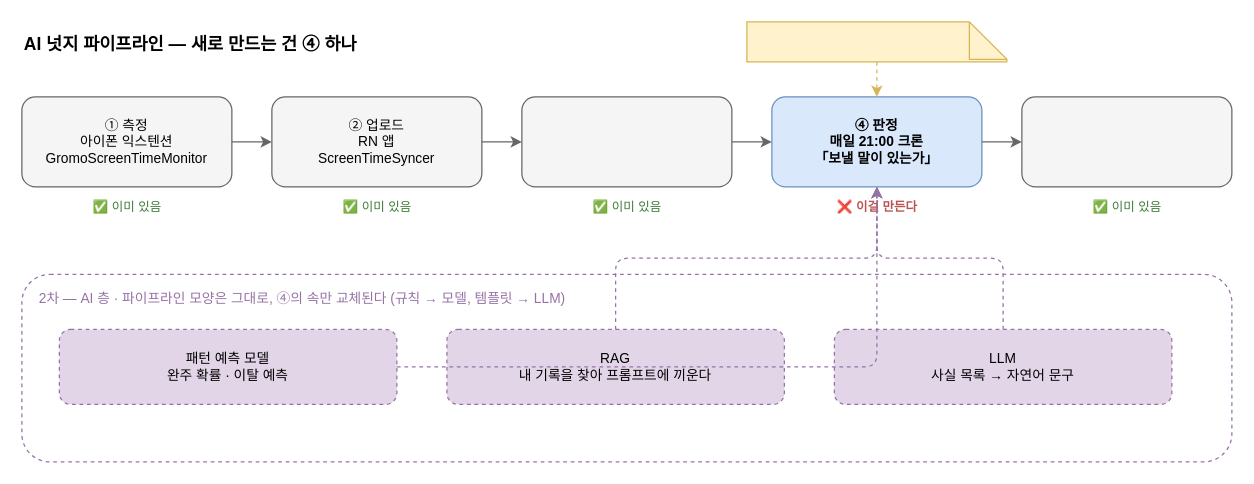
Image size: 1254x484. Some labels were removed from this diagram. Here are the shapes that lost their labels. From the top down, the centre of each, then its label:
At point (876, 41): "1차에서 새로 만드는 유일한 칸".
At point (626, 141): "③ 저장 서버 DB daily_screen_time_stats".
At point (1126, 141): "⑤ 발송 FCM 푸시 PushNotificationService".
